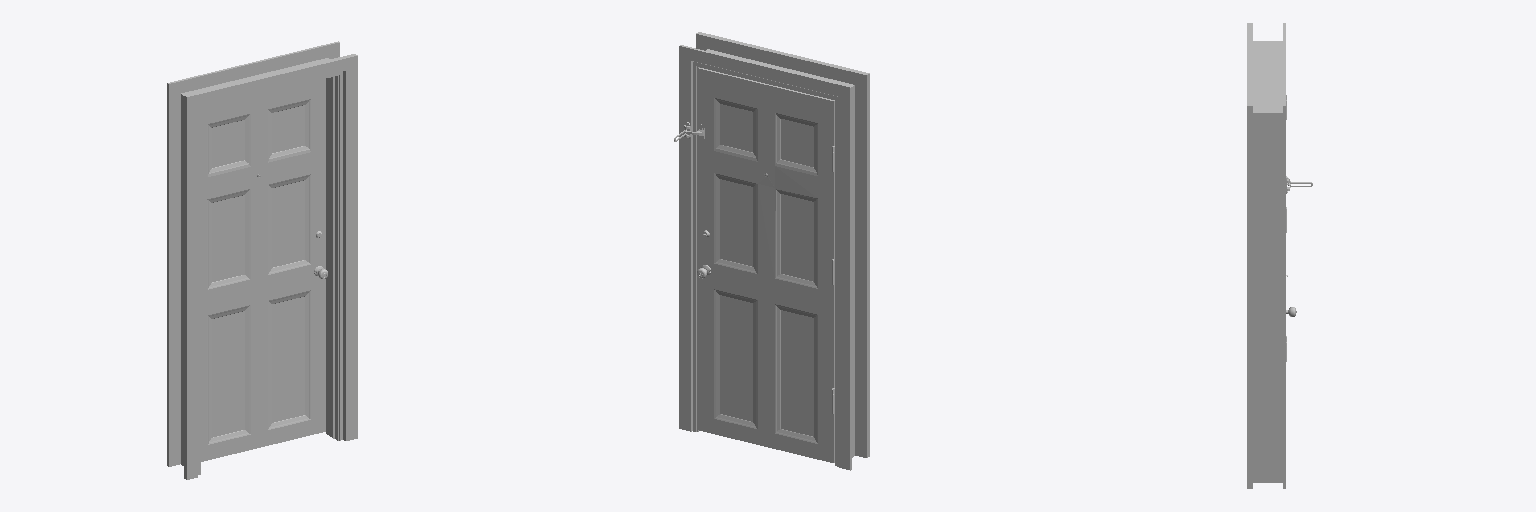
The model's file is frontdoor.obj.
3 views of the same model, side by side, from view 1: azimuth 30°, elevation 25°; view 2: azimuth 150°, elevation 25°; view 3: azimuth 270°, elevation 25° (orthographic).
Parts seen in each view (by area): view 1: Front_Door, Front_Door_Frame; view 2: Front_Door, Front_Door_Frame; view 3: Front_Door_Frame.
Boxes of the visible parts, x1,y1,x2,y2 form: Front_Door: [201, 79, 325, 461]; Front_Door_Frame: [167, 41, 357, 479]; Front_Door: [698, 68, 834, 462]; Front_Door_Frame: [679, 32, 869, 470]; Front_Door_Frame: [1247, 23, 1285, 488].
Size of the model in its own units: 3.27 by 7 by 1.08.